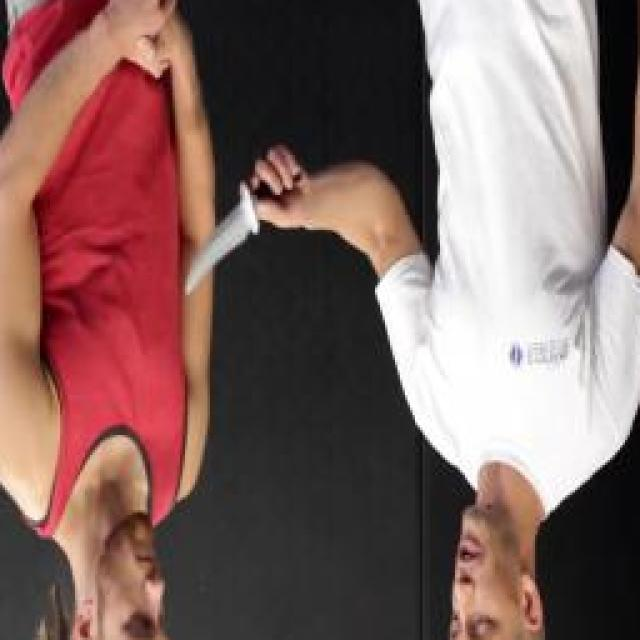knife: (180, 147, 305, 305)
